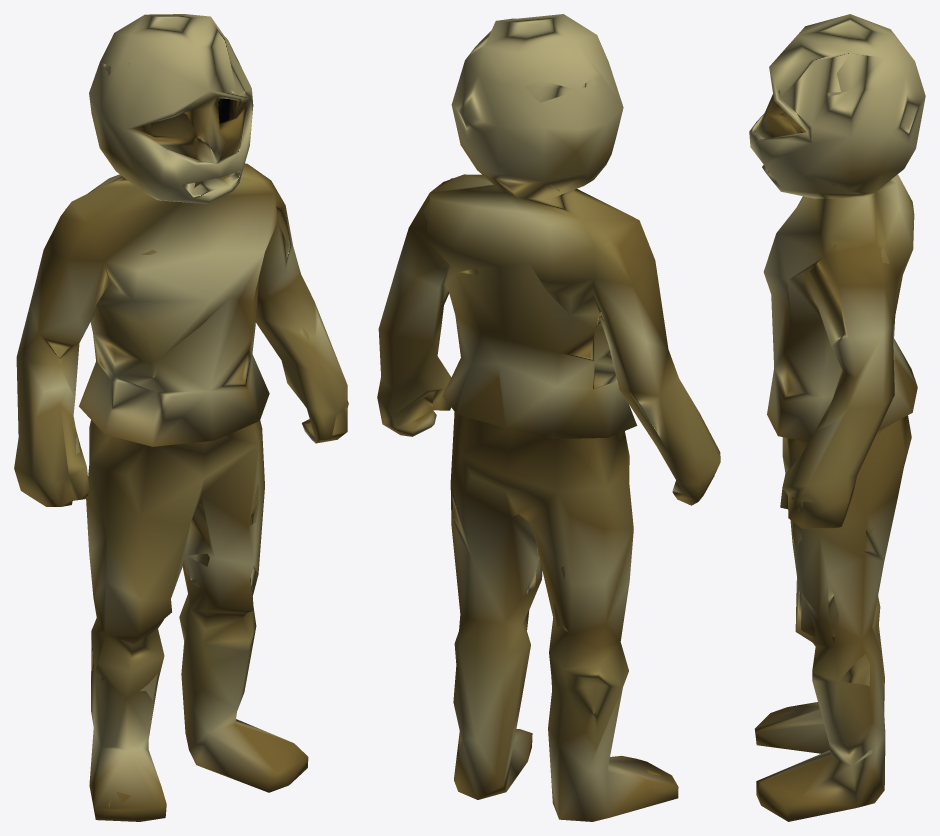
The model's file is gen3d-mummy-lod1.glb.
3 views of the same model, side by side, from view 1: azimuth 30°, elevation 25°; view 2: azimuth 150°, elevation 25°; view 3: azimuth 270°, elevation 25° (orthographic). The views are drawn at different scales.
Visible parts, largest first — view 1: part_0; view 2: part_0; view 3: part_0.
Part boxes in pixels (x1,y1,x2,y2): part_0: (14,14,348,821); part_0: (377,14,720,821); part_0: (749,14,925,821).
Bounding box in the file's own units: 0.4406 × 0.9957 × 0.2135.
